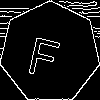F: (25, 27, 64, 79)
